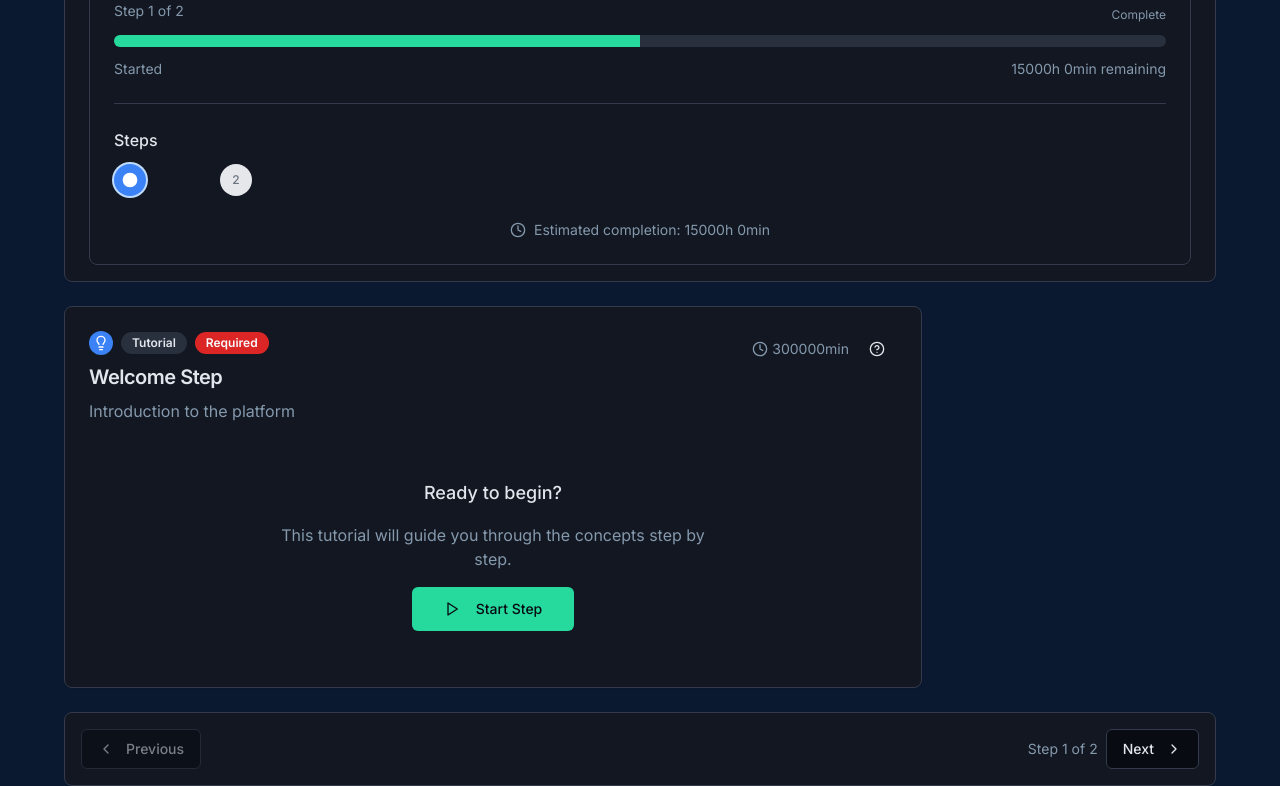
Test: Onboarding E2E Demo - Robust Testing › should demonstrate robust progress tracking
(page scrolled)
Click the button "Next". click: (1152, 749)
box: [1106, 729, 1199, 769]
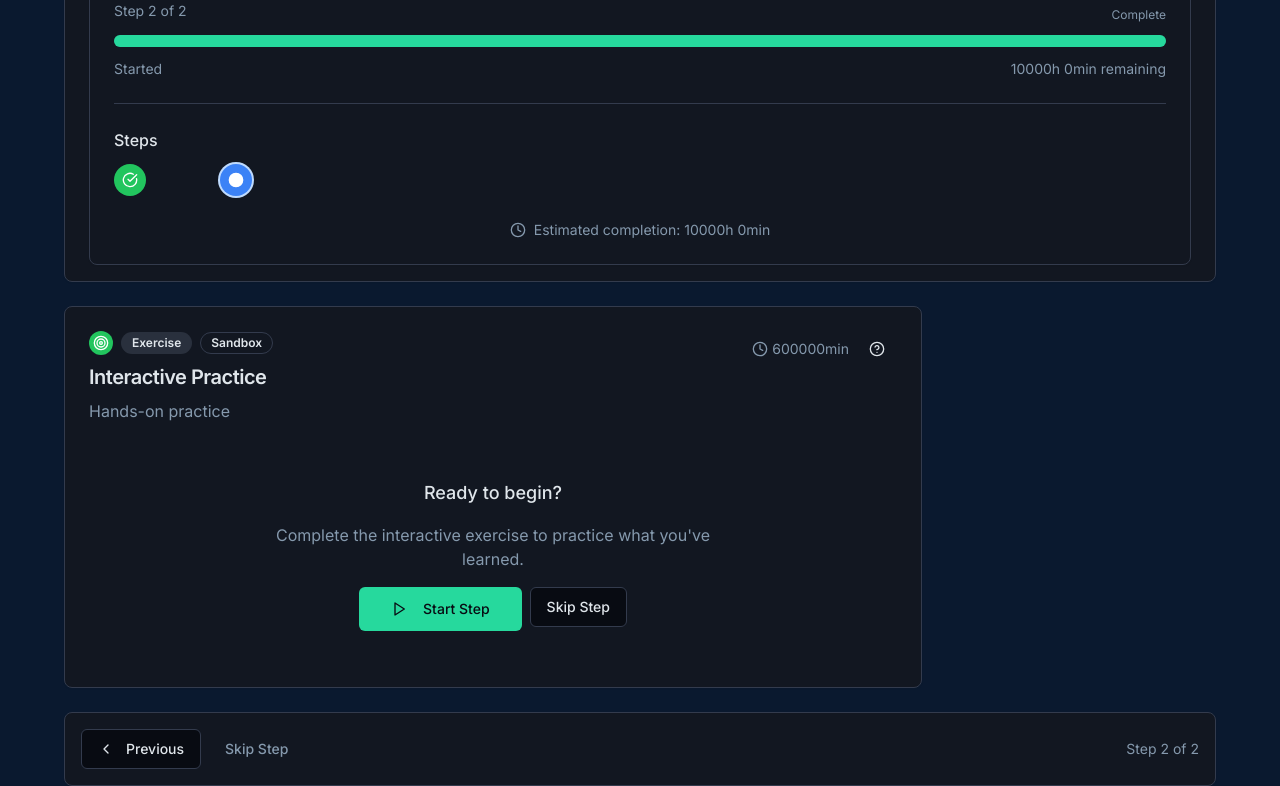
Expected: the progress indicator with test id "progress-bar" has attribute data-current-step="2", [114, 35, 1166, 47]
